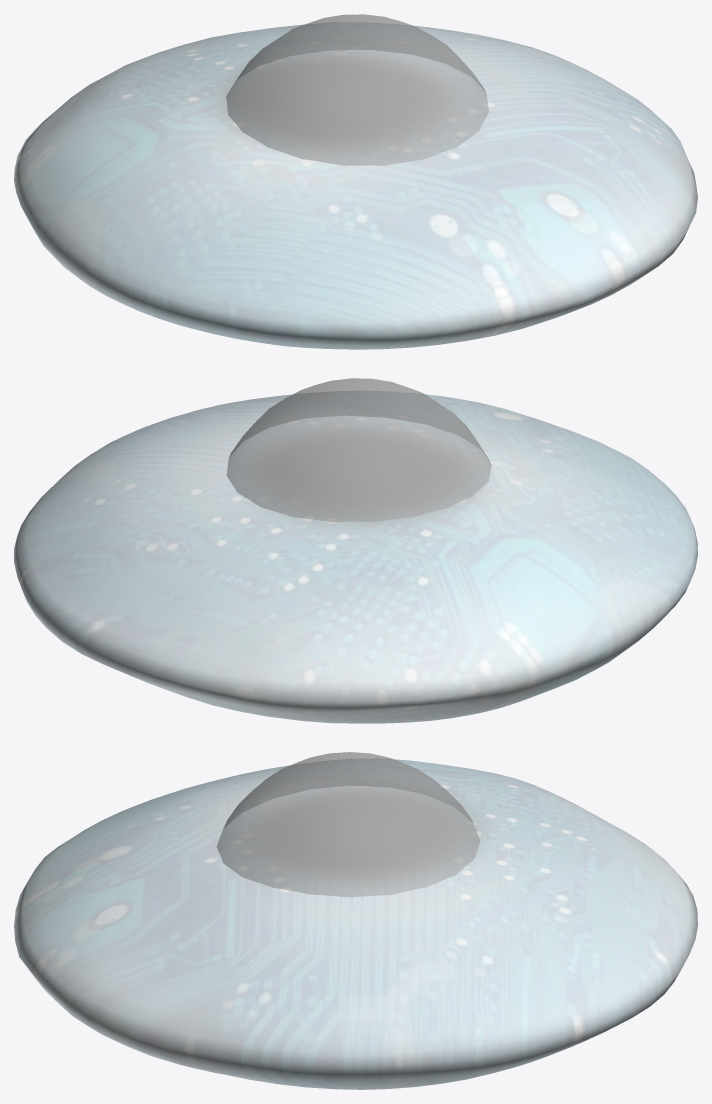
File: UFO.fbx
The picture shows the model from 3 angles, top to bottom: view 1: azimuth 30°, elevation 25°; view 2: azimuth 150°, elevation 25°; view 3: azimuth 270°, elevation 25°; orthographic projection.
Parts seen in each view (by area): view 1: polySurface1; view 2: polySurface1; view 3: polySurface1.
Boxes of the visible parts, x1,y1,x2,y2 form: polySurface1: (14,14,697,349); polySurface1: (14,378,697,723); polySurface1: (14,752,697,1089).
Bounding box in the file's own units: 198 × 81.74 × 203.
2 materials, 1 textured.
